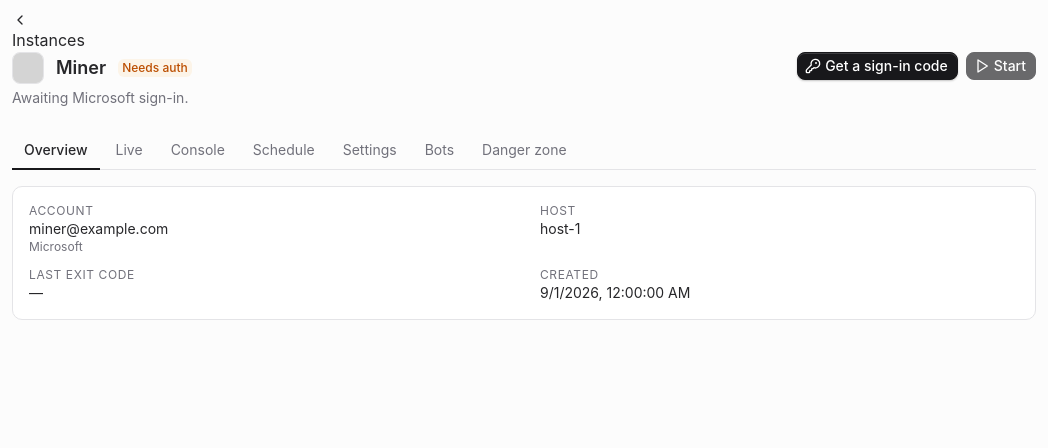
Test: a Microsoft sign-in code › leaves the bot stopped once signed in, with the normal Start button
Expected: the tab "Overview" is shown, x1=12 y1=132 x2=100 y2=170
Click the button "Get a sign-in code" at (877, 66), box x1=797 y1=52 x2=958 y2=80
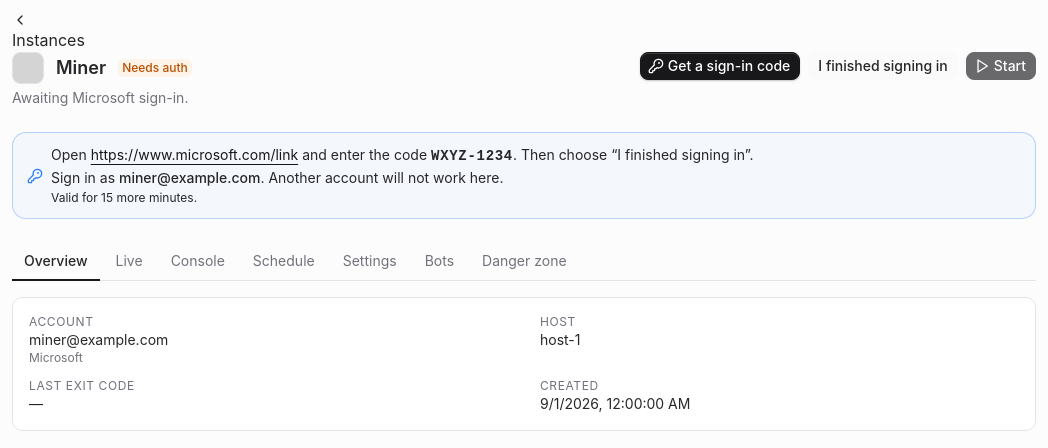
Now the text "WXYZ-1234" is shown, box x1=431 y1=148 x2=513 y2=164
Click the button "I finished signing in" at (883, 66), box x1=808 y1=52 x2=958 y2=80
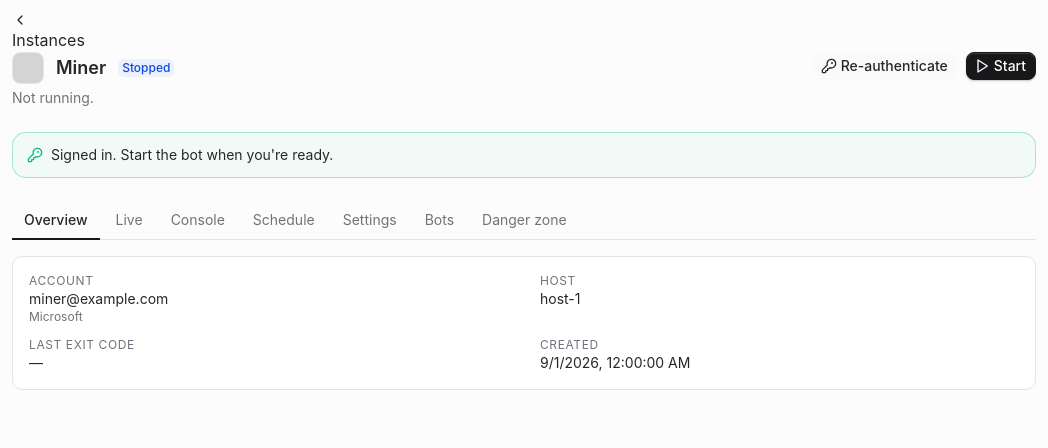
Now the text "Signed in. Start the bot when you're ready." is shown, box x1=51 y1=146 x2=333 y2=163
Now the button "Start" is enabled, box x1=966 y1=52 x2=1036 y2=80
